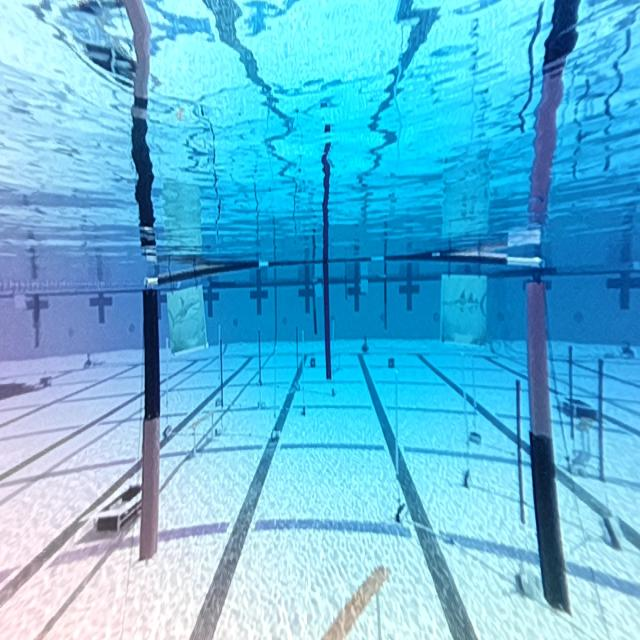pointed_nose: (440, 285, 490, 323)
round_nose: (166, 288, 208, 333)
